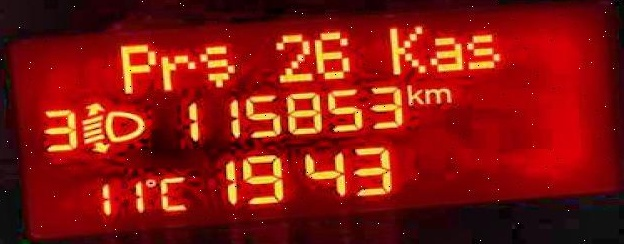1: (222, 159, 236, 205), (186, 101, 197, 141), (228, 98, 239, 138), (99, 181, 110, 215), (133, 180, 143, 212)
2: (273, 32, 311, 81)
3: (350, 145, 392, 195), (41, 107, 76, 151), (367, 85, 402, 129)
4: (301, 150, 345, 196)
5: (325, 87, 362, 131), (243, 94, 280, 138)
6: (313, 30, 348, 79)
8: (285, 91, 322, 134)
9: (239, 154, 281, 204)
X: (386, 25, 425, 75), (117, 44, 154, 94), (198, 43, 235, 86), (159, 54, 194, 90), (428, 36, 462, 71), (465, 34, 500, 68), (157, 175, 186, 210), (423, 86, 450, 103), (405, 84, 421, 105)
